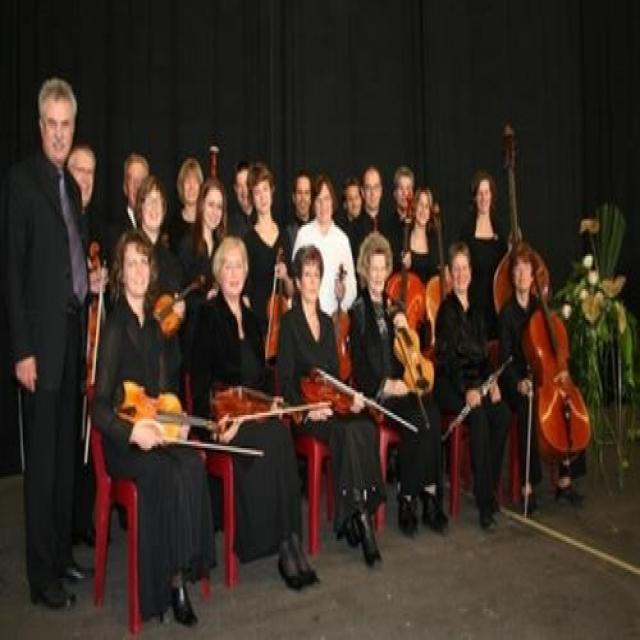cello: (516, 252, 594, 465), (387, 191, 432, 333)
violin: (116, 374, 232, 448), (383, 297, 442, 397), (210, 378, 306, 432), (327, 264, 356, 383), (154, 272, 208, 334), (302, 366, 368, 414), (262, 251, 288, 360), (83, 244, 100, 398)
